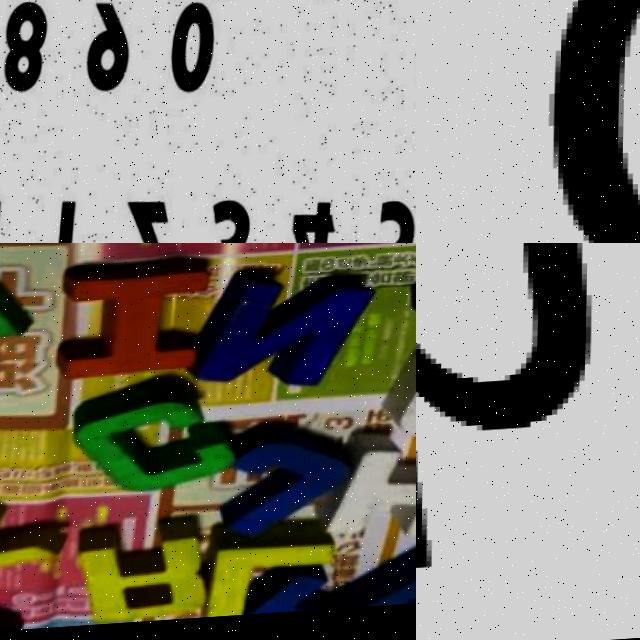0: (165, 0, 225, 107)
1: (40, 199, 84, 243)
2: (115, 194, 175, 243)
3: (204, 201, 260, 243)
4: (285, 199, 341, 243)
5: (370, 197, 416, 243)
8: (0, 0, 56, 105)
9: (81, 0, 137, 105)
C: (74, 380, 224, 504)
H: (416, 243, 602, 590), (337, 447, 416, 549)
I: (59, 271, 200, 383)
J: (222, 426, 360, 541)
L: (197, 533, 339, 624)
N: (196, 275, 364, 402)
Q: (541, 0, 640, 243)
R: (71, 536, 214, 630)
X: (0, 505, 75, 617)
Y: (0, 243, 39, 342)
